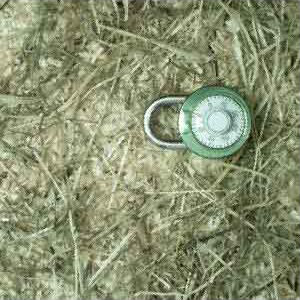lock: (143, 84, 254, 161)
